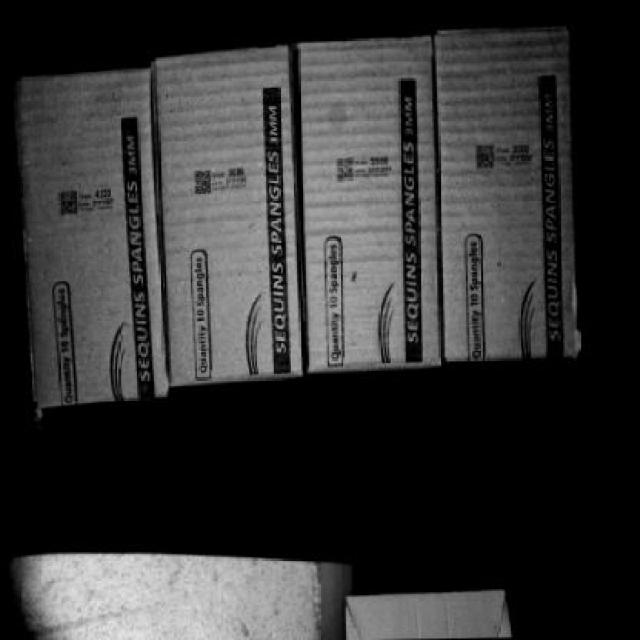cardboxes: (17, 76, 172, 402), (301, 41, 445, 367), (158, 57, 304, 377), (442, 27, 580, 358)
